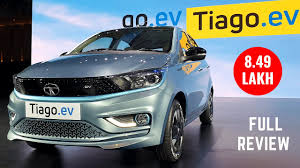Tiago: (1, 22, 215, 165)
